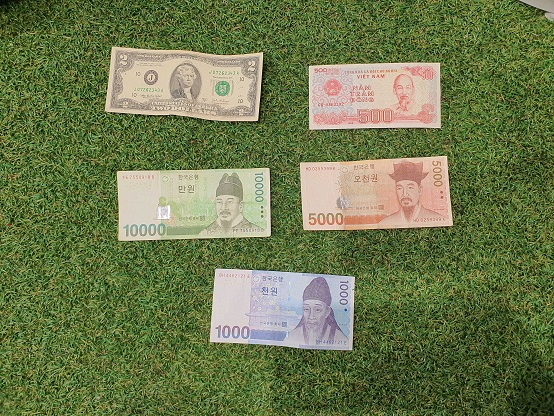10000won: (116, 167, 272, 242)
1000won: (209, 270, 355, 350)
2dollar: (105, 45, 266, 123)
5000won: (299, 156, 454, 232)
500vnd: (306, 61, 444, 131)
